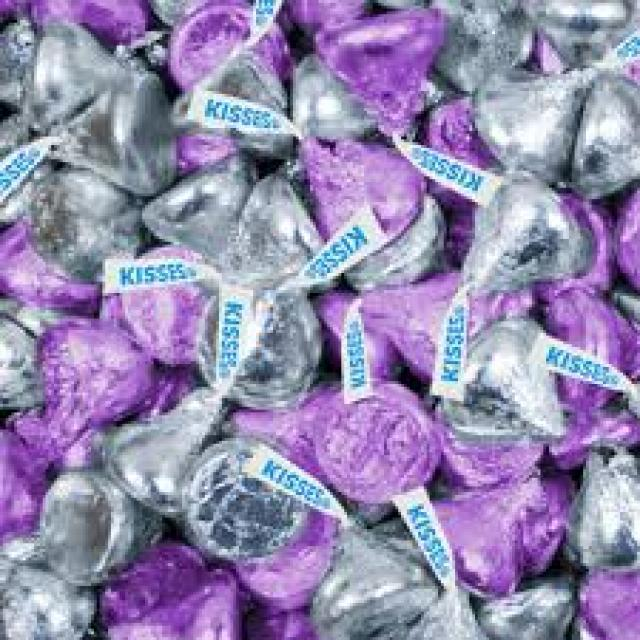kisses: (441, 314, 574, 464), (42, 63, 182, 200), (98, 371, 224, 522), (454, 166, 590, 302), (196, 271, 322, 411), (186, 432, 307, 568), (314, 508, 438, 640), (41, 460, 168, 588), (466, 61, 594, 178), (27, 158, 144, 285), (172, 42, 296, 154), (22, 17, 124, 136), (0, 523, 100, 640), (230, 174, 325, 294), (569, 60, 640, 213), (562, 438, 640, 576), (278, 49, 378, 156), (432, 0, 540, 91), (406, 577, 494, 640)
